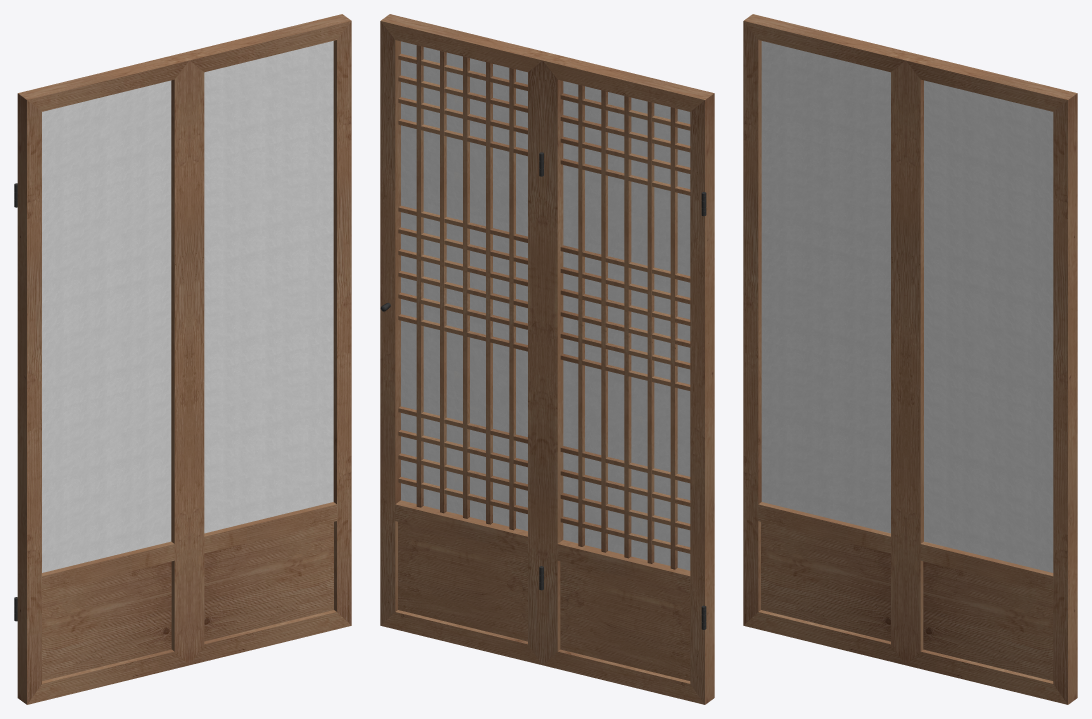
File: SM_Yeonkyung_Anchae_Win_F_001.fbx
3 renders of one model, left to right at view 1: azimuth 30°, elevation 25°; view 2: azimuth 150°, elevation 25°; view 3: azimuth 330°, elevation 25°, orthographic.
Visible parts, largest first — view 1: SM_Yeonkyung_Anchae_Win_F_001; view 2: SM_Yeonkyung_Anchae_Win_F_001; view 3: SM_Yeonkyung_Anchae_Win_F_001.
Boxes of the visible parts, x1,y1,x2,y2 form: SM_Yeonkyung_Anchae_Win_F_001: (14, 14, 351, 704); SM_Yeonkyung_Anchae_Win_F_001: (380, 14, 714, 704); SM_Yeonkyung_Anchae_Win_F_001: (743, 14, 1077, 704).
Size of the model in its own units: 100 by 177 by 8.18.
